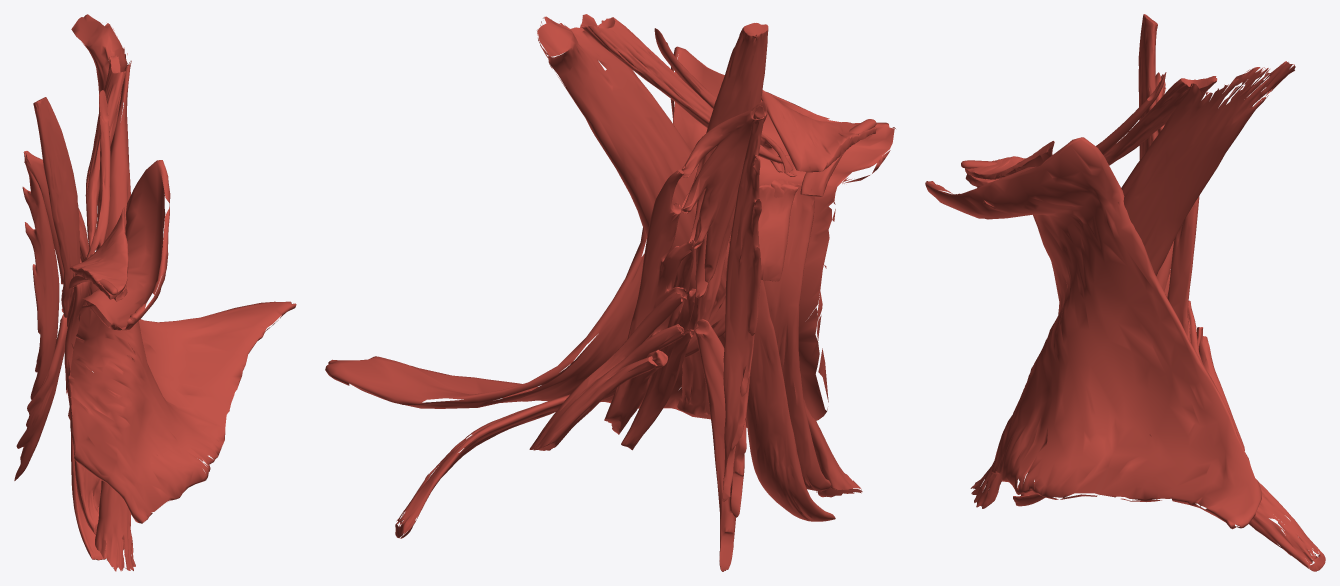
Rendered from neckm.glb.
3 views of the same model, side by side, from view 1: azimuth 30°, elevation 25°; view 2: azimuth 150°, elevation 25°; view 3: azimuth 270°, elevation 25° (orthographic). The views are drawn at different scales.
Visible parts, largest first — view 1: left platysma, left sternocleidomastoid, left longus capitis, vertical intermediate part of left longus colli, left sternohyoid, left mylohyoid, inferior oblique part of left longus colli, left digastric (3), left stylohyoid, left sternothyroid, superior oblique part of left longus colli; view 2: left platysma, left sternocleidomastoid, vertical intermediate part of left longus colli, left sternothyroid, left sternohyoid, left scalenus medius, superior oblique part of left longus colli, left longus capitis, left scalenus posterior, inferior oblique part of left longus colli, left digastric (3), left mylohyoid (+5 smaller); view 3: left platysma, left sternocleidomastoid, left omohyoid, left scalenus medius, left digastric (3), left longus capitis, left mylohyoid, left scalenus posterior, left stylohyoid.
Part boxes in pixels (box(x1,y1,x2,y2)): left platysma: box(66, 160, 296, 523); left sternocleidomastoid: box(71, 14, 135, 571); left longus capitis: box(33, 97, 80, 317); vertical intermediate part of left longus colli: box(22, 151, 59, 399); left sternohyoid: box(64, 281, 101, 534); left mylohyoid: box(69, 207, 128, 299); inferior oblique part of left longus colli: box(14, 314, 67, 480); left digastric (3): box(85, 55, 125, 249); left stylohyoid: box(85, 90, 110, 260); left sternothyroid: box(70, 272, 124, 560); superior oblique part of left longus colli: box(24, 151, 63, 284); left platysma: box(325, 46, 895, 427); left sternocleidomastoid: box(537, 14, 862, 497); vertical intermediate part of left longus colli: box(722, 105, 764, 501); left sternothyroid: box(729, 239, 835, 521); left sternohyoid: box(746, 178, 831, 491); left scalenus medius: box(604, 169, 694, 434); superior oblique part of left longus colli: box(681, 101, 767, 282); left longus capitis: box(681, 23, 768, 332); left scalenus posterior: box(529, 290, 686, 450); inferior oblique part of left longus colli: box(694, 319, 746, 571); left digastric (3): box(580, 17, 782, 163); left mylohyoid: box(761, 90, 876, 172); left platysma: box(925, 137, 1261, 529); left sternocleidomastoid: box(970, 61, 1295, 508); left omohyoid: box(1149, 434, 1325, 571); left scalenus medius: box(1167, 195, 1202, 349); left digastric (3): box(1103, 76, 1217, 165); left longus capitis: box(1138, 14, 1170, 272); left mylohyoid: box(965, 141, 1054, 179); left scalenus posterior: box(1187, 300, 1244, 450); left stylohyoid: box(1096, 72, 1166, 154).
Size of the model in its own units: 0.1465 by 0.2012 by 0.1469.
